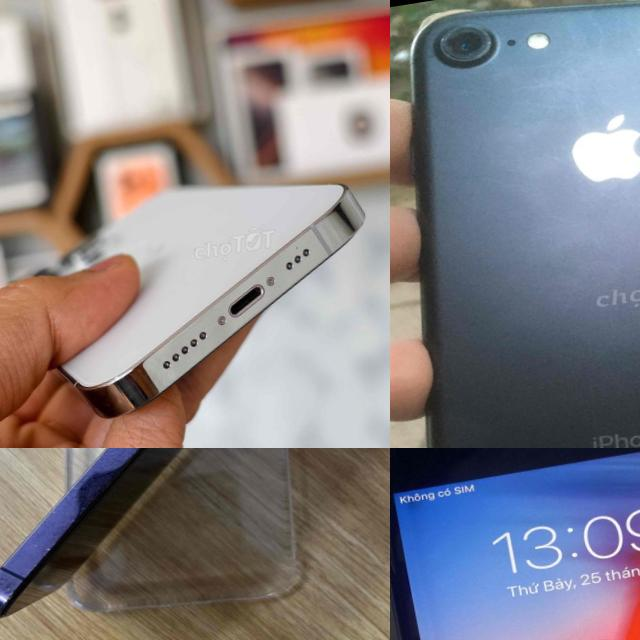gen_14: (11, 154, 390, 436), (0, 448, 390, 631)
gen_6: (390, 448, 640, 640)
gen_7_8: (390, 0, 640, 448)
